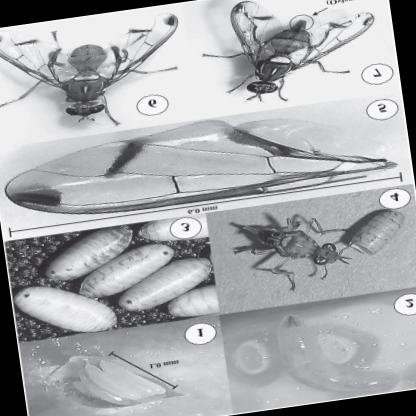fruit fly: (0, 13, 180, 117), (229, 0, 377, 93)
